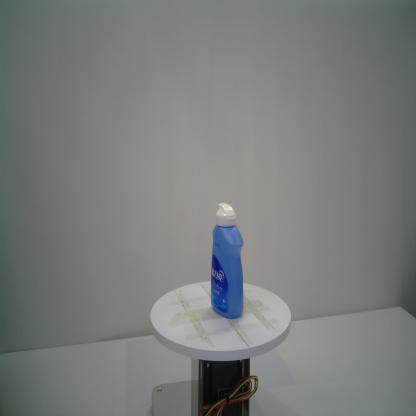Personal Hygiene: (210, 202, 244, 320)
